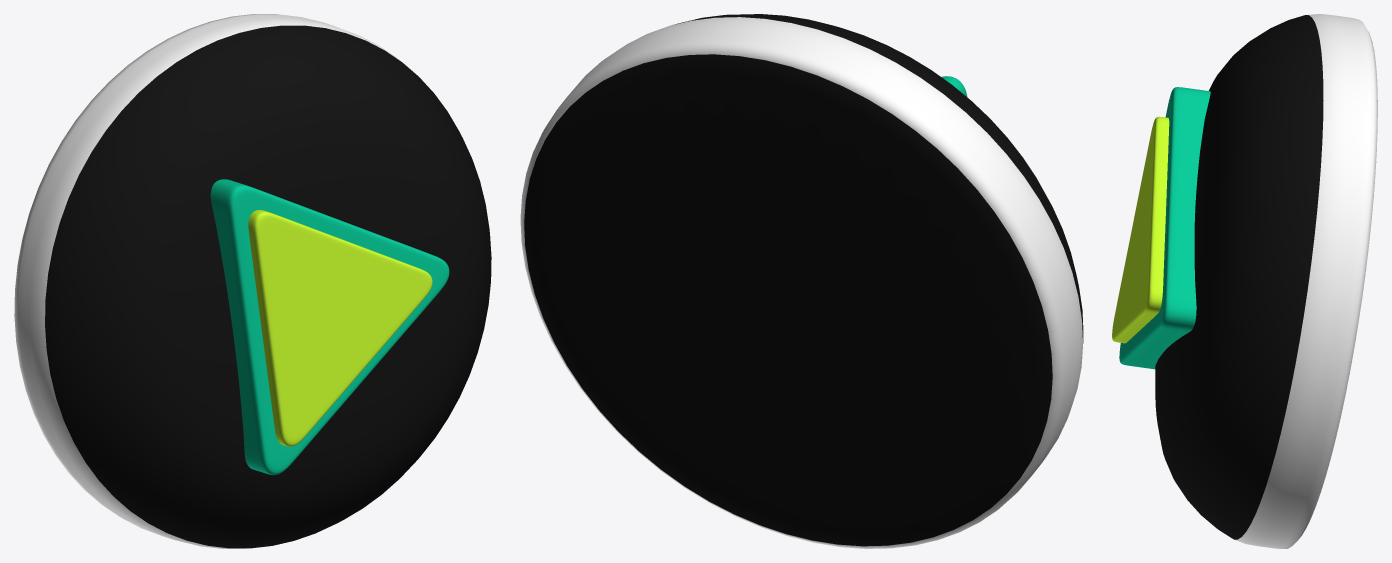
The model's file is play-button-3d-animated-icon-86316425221.glb.
The picture shows the model from 3 angles, left to right: view 1: azimuth 30°, elevation 25°; view 2: azimuth 150°, elevation 25°; view 3: azimuth 270°, elevation 25°; orthographic projection. The views are drawn at different scales.
Visible parts, largest first — view 1: Cylinder.012, Plane.010, Plane.025; view 2: Cylinder.012; view 3: Cylinder.012, Plane.025, Plane.010.
Boxes of the visible parts, box(x1,y1,x2,y2) form: Cylinder.012: box(14, 14, 491, 548); Plane.010: box(248, 210, 432, 446); Plane.025: box(210, 179, 449, 475); Cylinder.012: box(520, 14, 1083, 548); Cylinder.012: box(1155, 14, 1377, 548); Plane.025: box(1119, 87, 1210, 369); Plane.010: box(1112, 116, 1169, 343).
Size of the model in its own units: 5.46 by 5.42 by 2.7.
